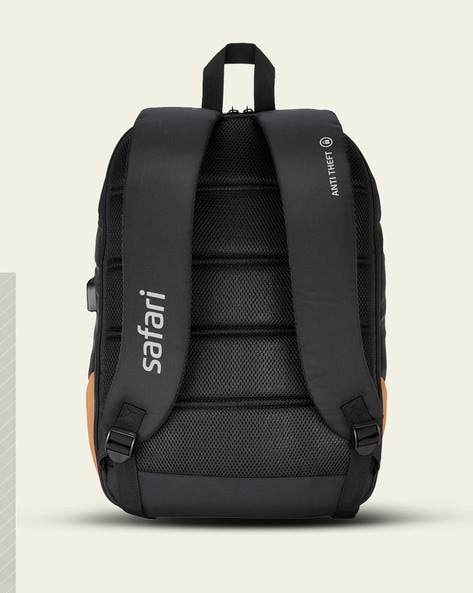backpack: (85, 42, 387, 520)
